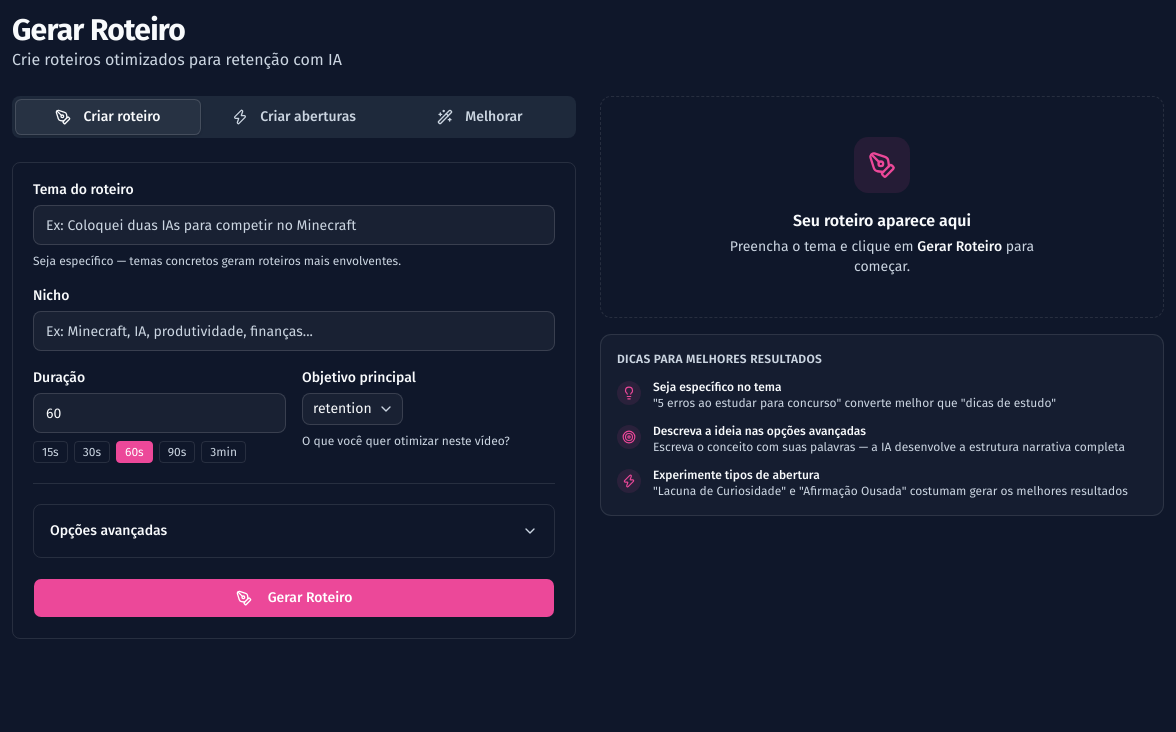
Test: Generate Page — resultado de geração › 10. exibe linhas do roteiro após geração bem-sucedida
Type "Dois robôs competindo no Minecraft" into the field labelled "Tema do roteiro" at (294, 225), box [33,205,555,245]
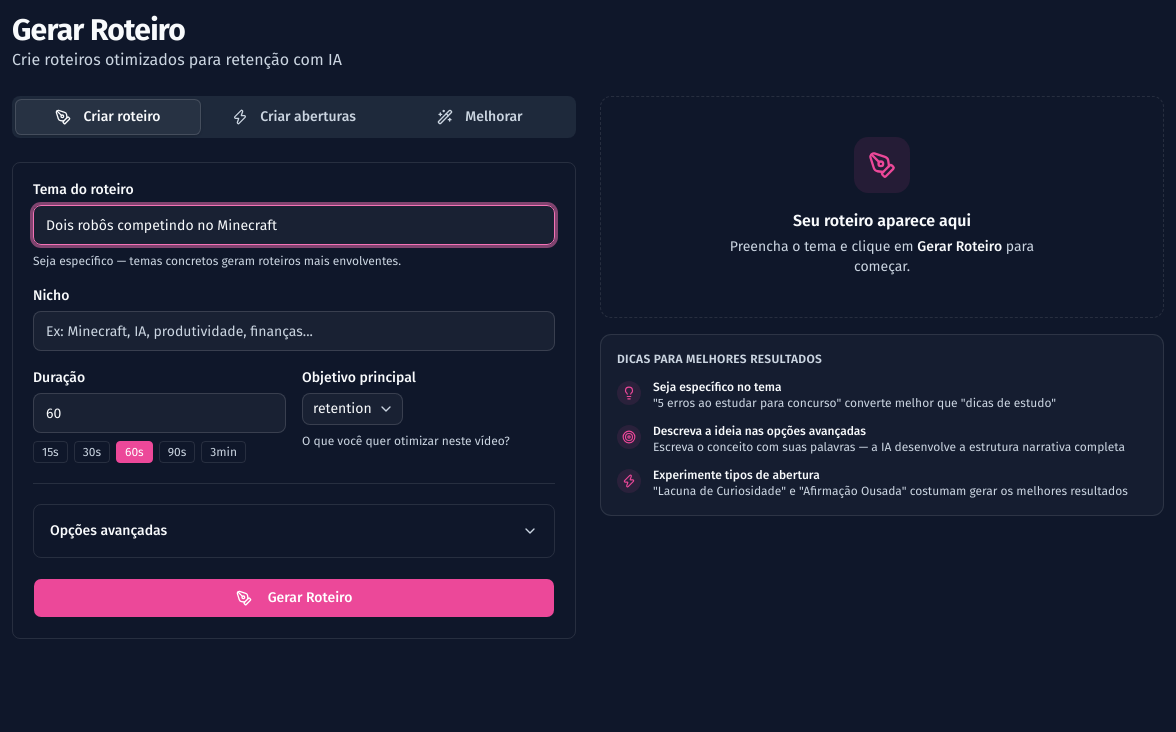
Type "Gaming" into the field labelled "Nicho" at (294, 331), box [33,311,555,351]
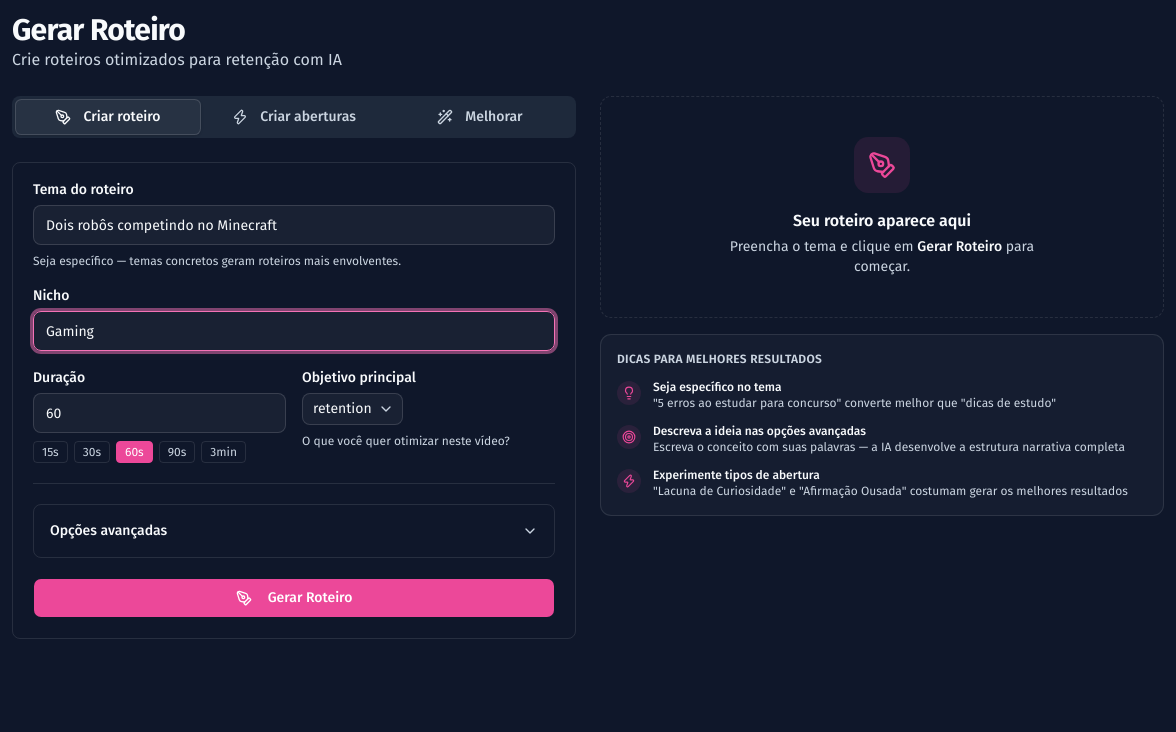
Click the button with test id "gen-submit-btn" at (294, 598), box [33,578,555,618]
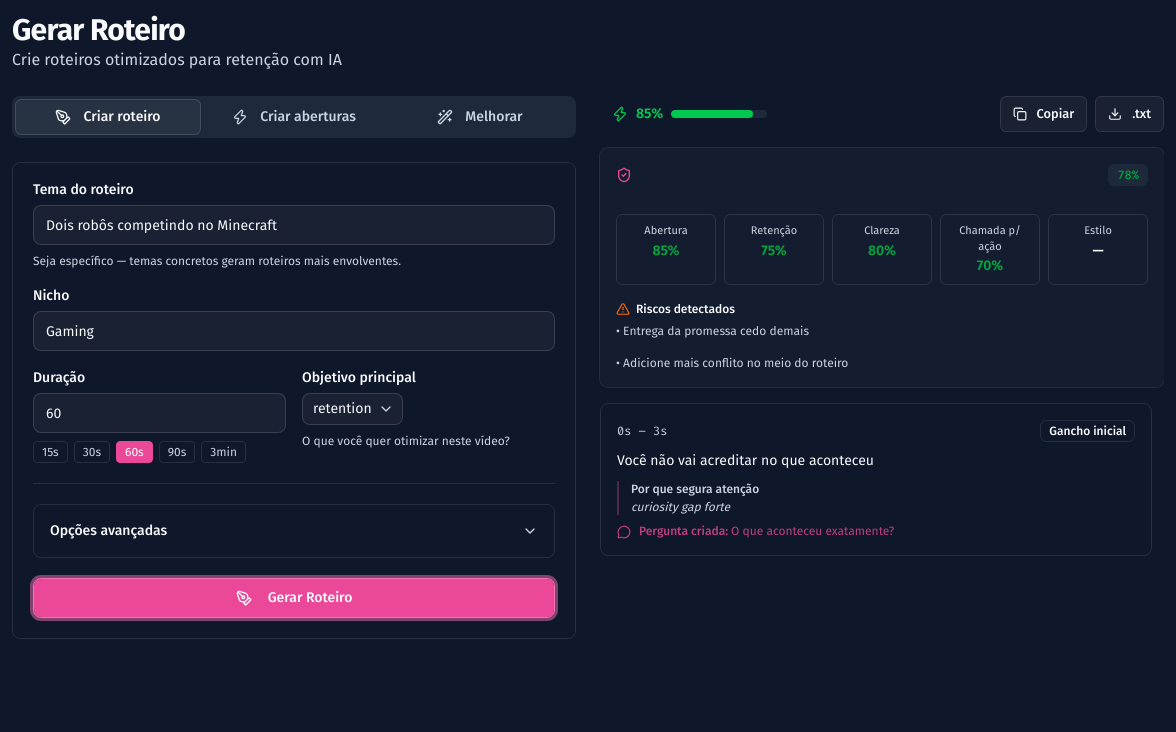
Expected: the element with test id "script-line" is shown, [600,403,1152,556]
